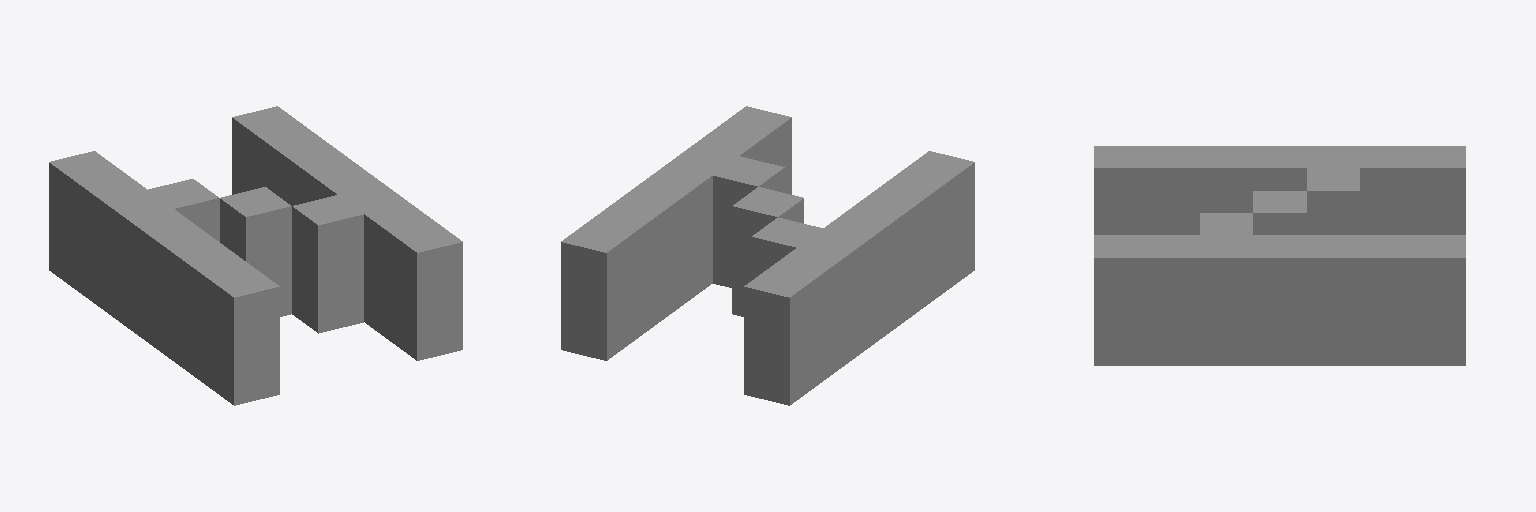
The picture shows the model from 3 angles: view 1: azimuth 30°, elevation 25°; view 2: azimuth 150°, elevation 25°; view 3: azimuth 270°, elevation 25°; orthographic projection.
Parts seen in each view (by area): view 1: N_CUABC.014; view 2: N_CUABC.014; view 3: N_CUABC.014.
Part boxes in pixels (bbox=[...]): N_CUABC.014: bbox=[49, 106, 462, 405]; N_CUABC.014: bbox=[561, 106, 974, 405]; N_CUABC.014: bbox=[1094, 146, 1465, 365].
Size of the model in its own units: 0.5544 by 0.25 by 0.7778.